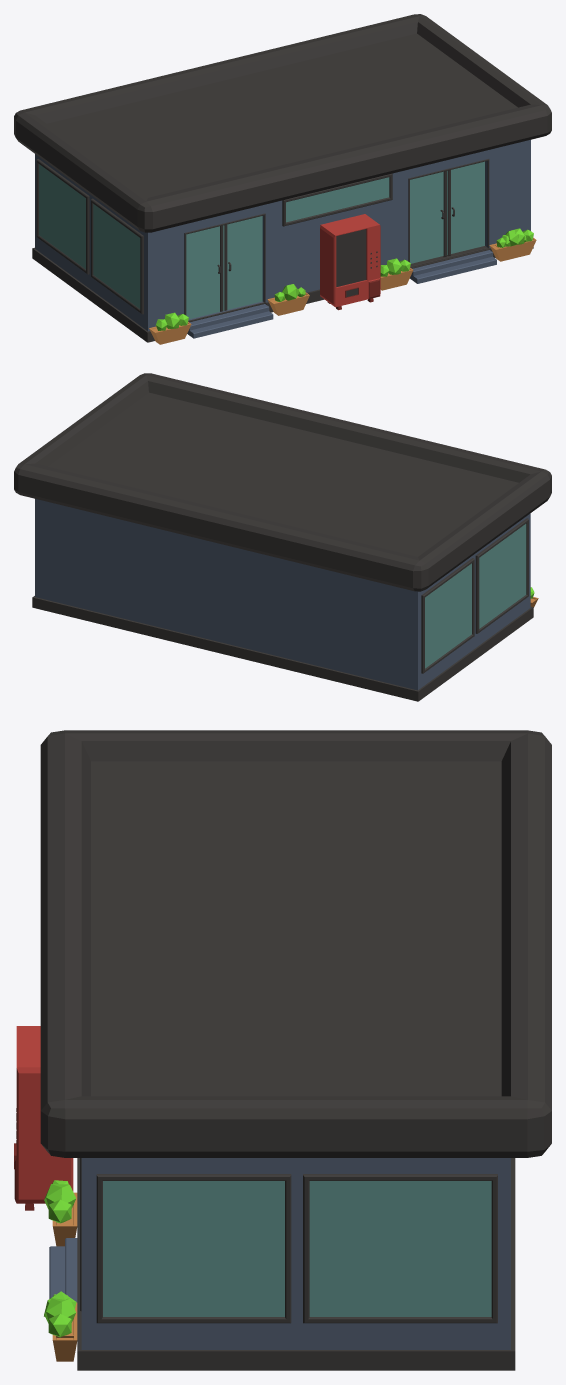
Rendered from Loja.G.fbx.
The picture shows the model from 3 angles, top to bottom: view 1: azimuth 30°, elevation 25°; view 2: azimuth 150°, elevation 25°; view 3: azimuth 270°, elevation 25°; orthographic projection. The views are drawn at different scales.
Parts seen in each view (by area): view 1: Loja.G; view 2: Loja.G; view 3: Loja.G.
Boxes of the visible parts, x1=… form: Loja.G: x1=14, y1=14, x2=551, y2=344; Loja.G: x1=14, y1=373, x2=551, y2=701; Loja.G: x1=14, y1=730, x2=551, y2=1370.
Bounding box in the file's own units: 1844 × 620 × 1095.
